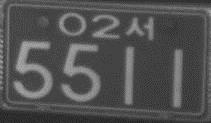0: (58, 10, 86, 37)
1: (161, 48, 193, 109), (113, 45, 145, 105)
2: (92, 13, 121, 40)
5: (59, 42, 102, 103), (12, 40, 54, 99)
서: (125, 15, 155, 41)
